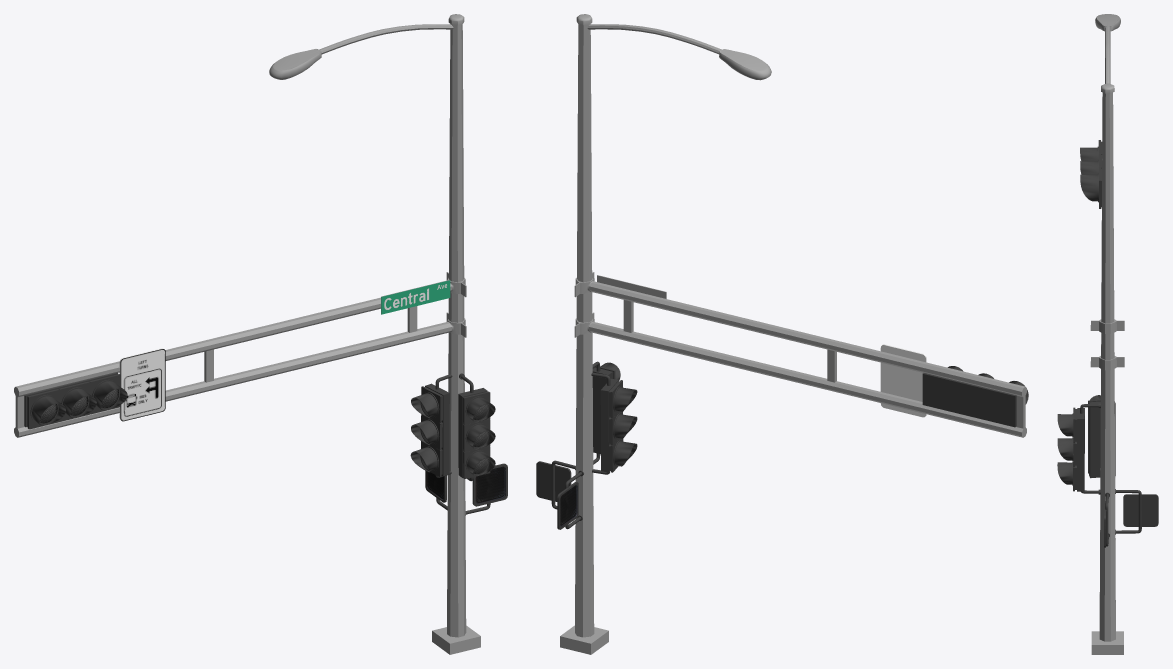
The model's file is Light1.fbx.
The picture shows the model from 3 angles, left to right: view 1: azimuth 30°, elevation 25°; view 2: azimuth 150°, elevation 25°; view 3: azimuth 270°, elevation 25°; orthographic projection. The views are drawn at different scales.
Parts seen in each view (by area): view 1: Traffic Lights.013; view 2: Traffic Lights.013; view 3: Traffic Lights.013.
Boxes of the visible parts, x1,y1,x2,y2 form: Traffic Lights.013: (14, 14, 507, 654); Traffic Lights.013: (536, 14, 1028, 654); Traffic Lights.013: (1057, 14, 1158, 654).
Size of the model in its own units: 1009 by 1248 by 202.
